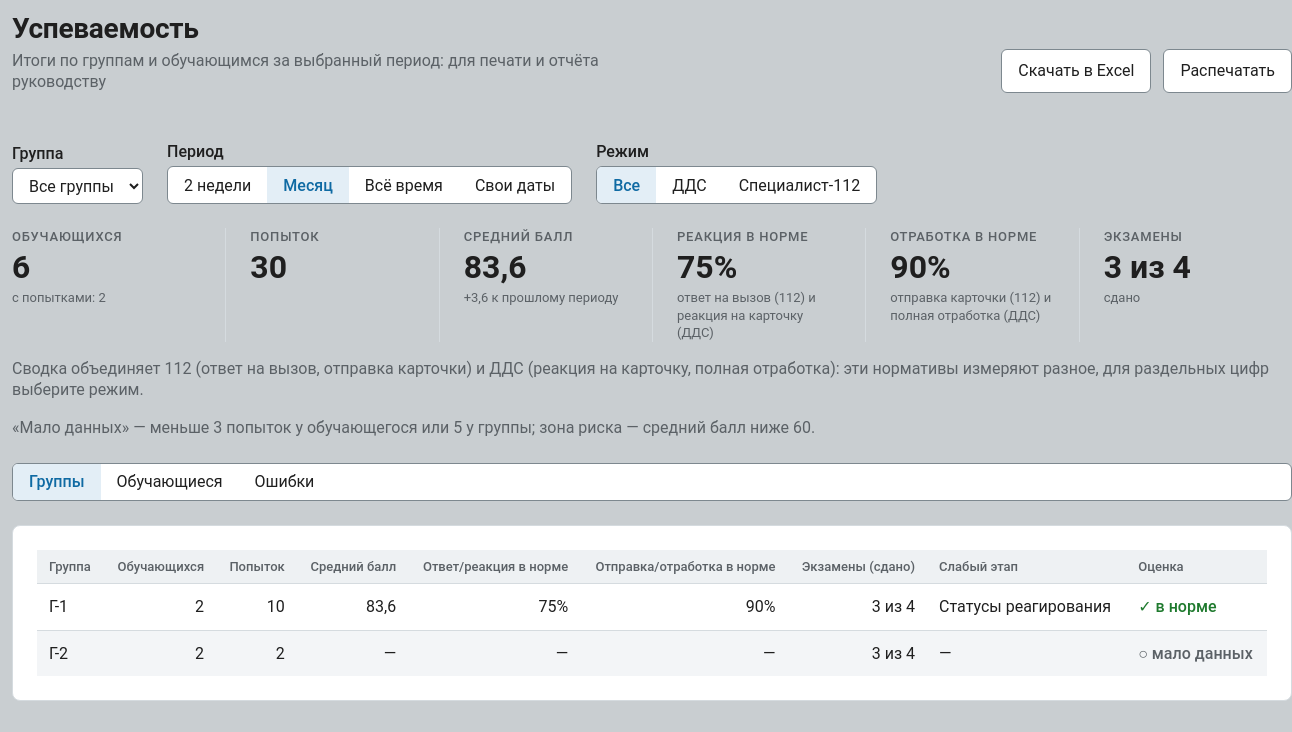
Test: страница «Успеваемость» › ошибки: самые частые формулировки
Expected: the table named "Сравнение групп" is shown, [37,550,1267,676]
Click the button "Ошибки" at (284, 482), box [238,464,330,500]
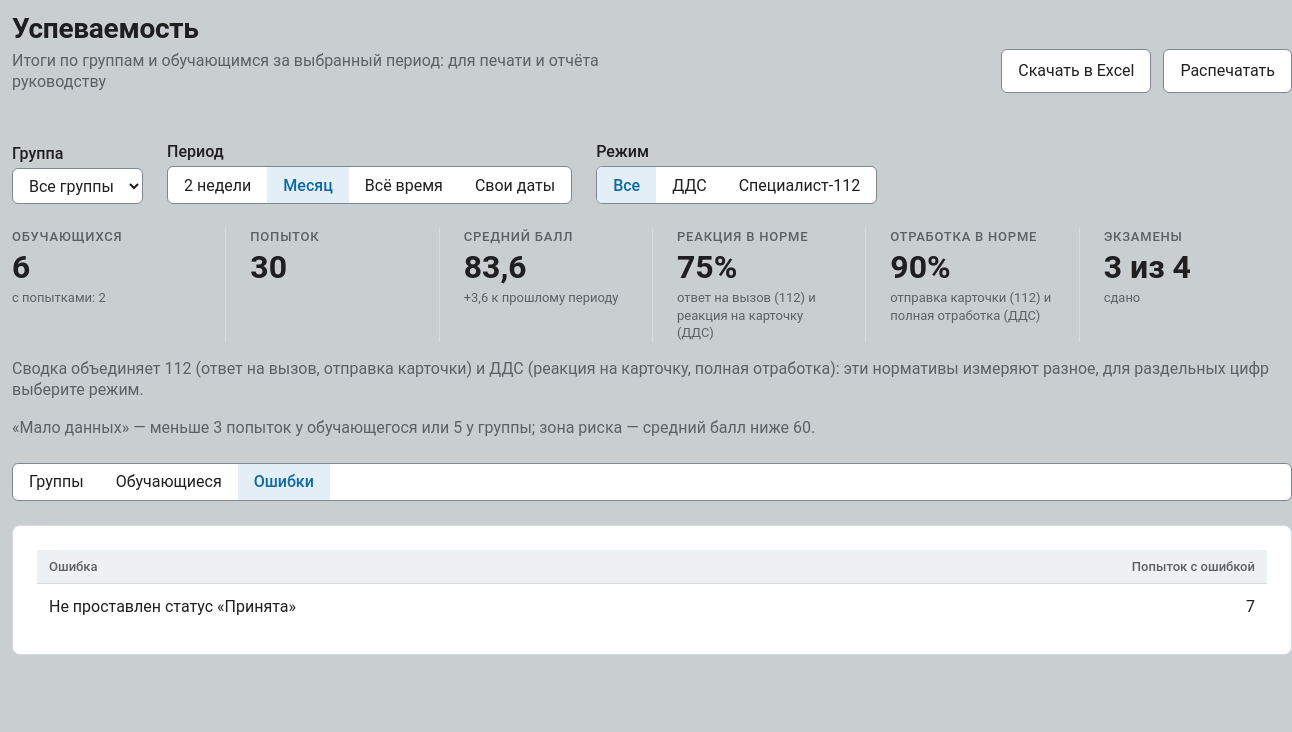
Expected: the text "Не проставлен статус «Принята»" is shown, [37,584,834,630]
